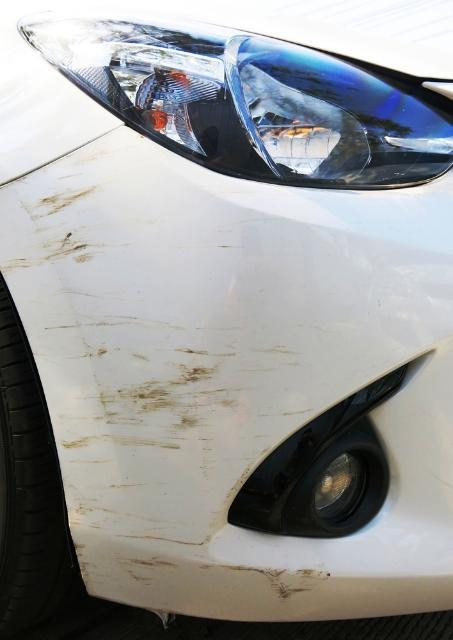scratch: (0, 126, 344, 603)
